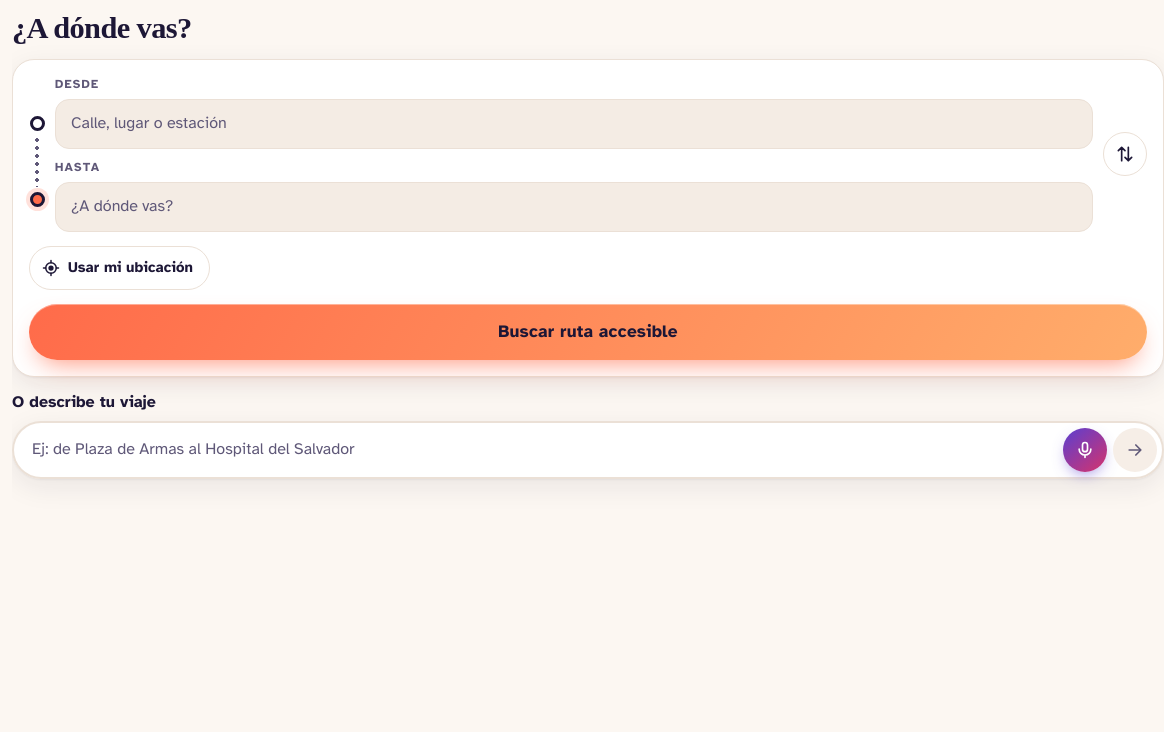
Test: SearchForm › points back to the fields when free text cannot be understood
Step 1. Type "algo raro" into the field labelled "O describe tu viaje" → (540, 450), box [22,428,1057,472]
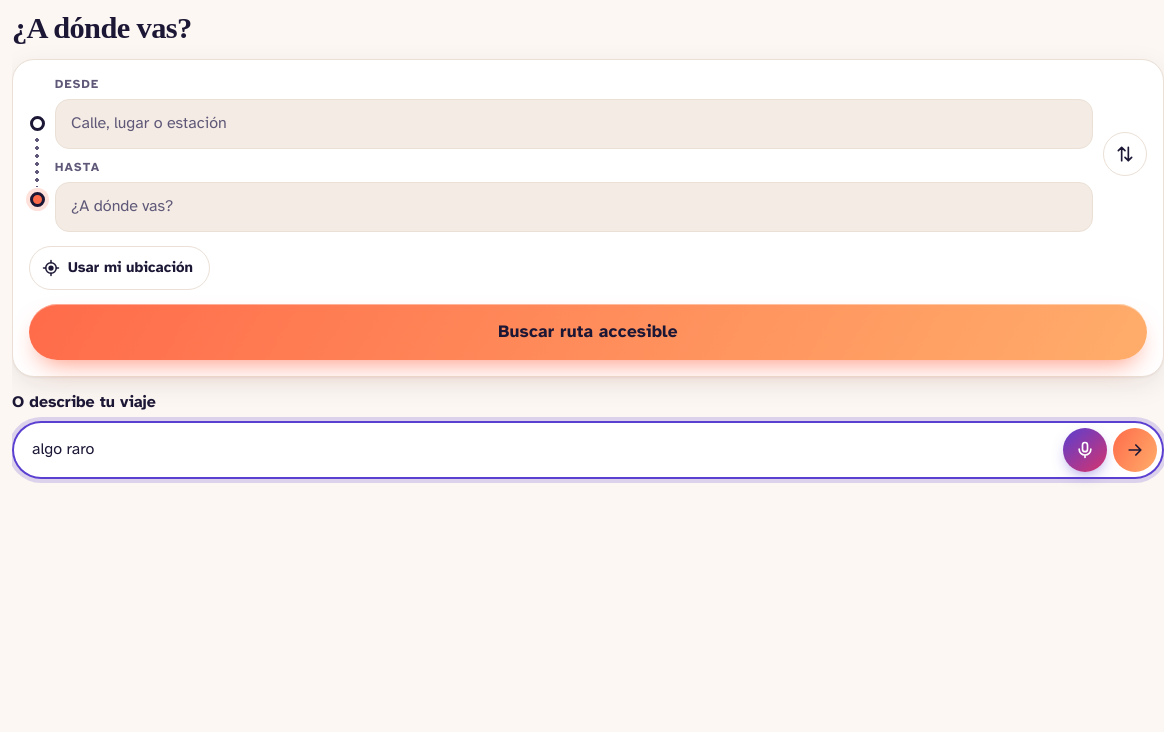
Step 2. Click the 3rd button named "Interpretar" → (1135, 450), box [1113,428,1157,472]
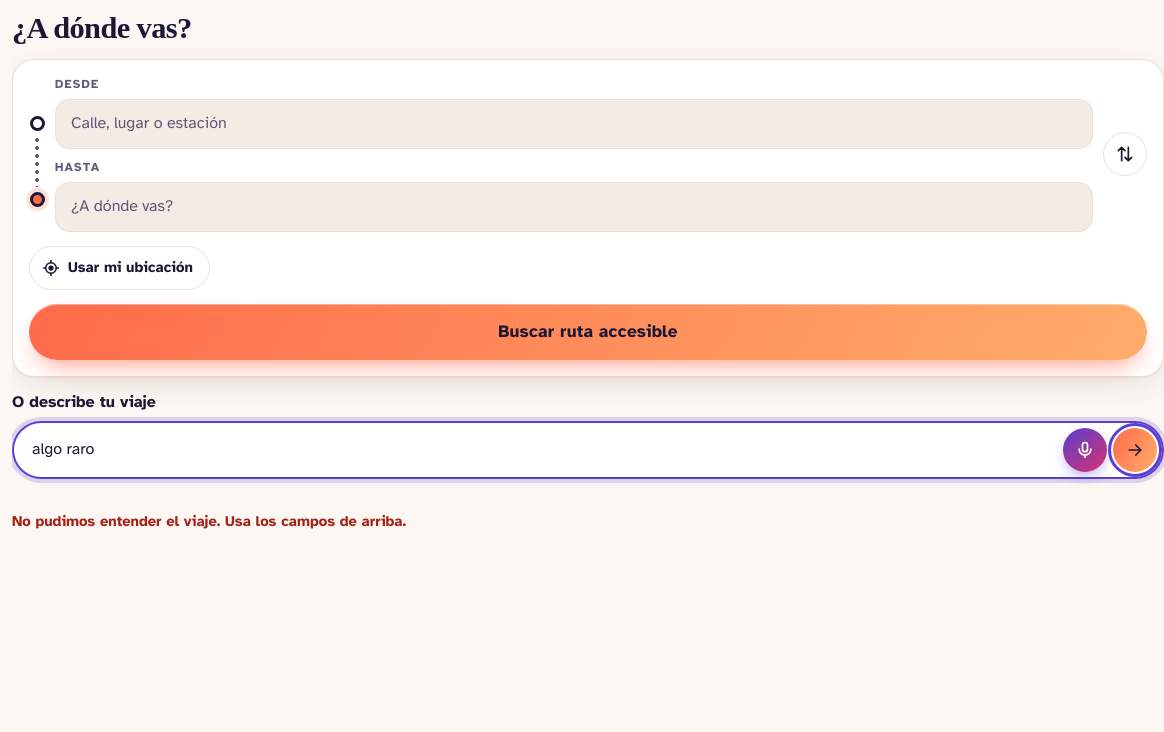
Expected: the message reads "No pudimos entender el viaje. Usa los campos de arriba.", [12,512,406,530]
